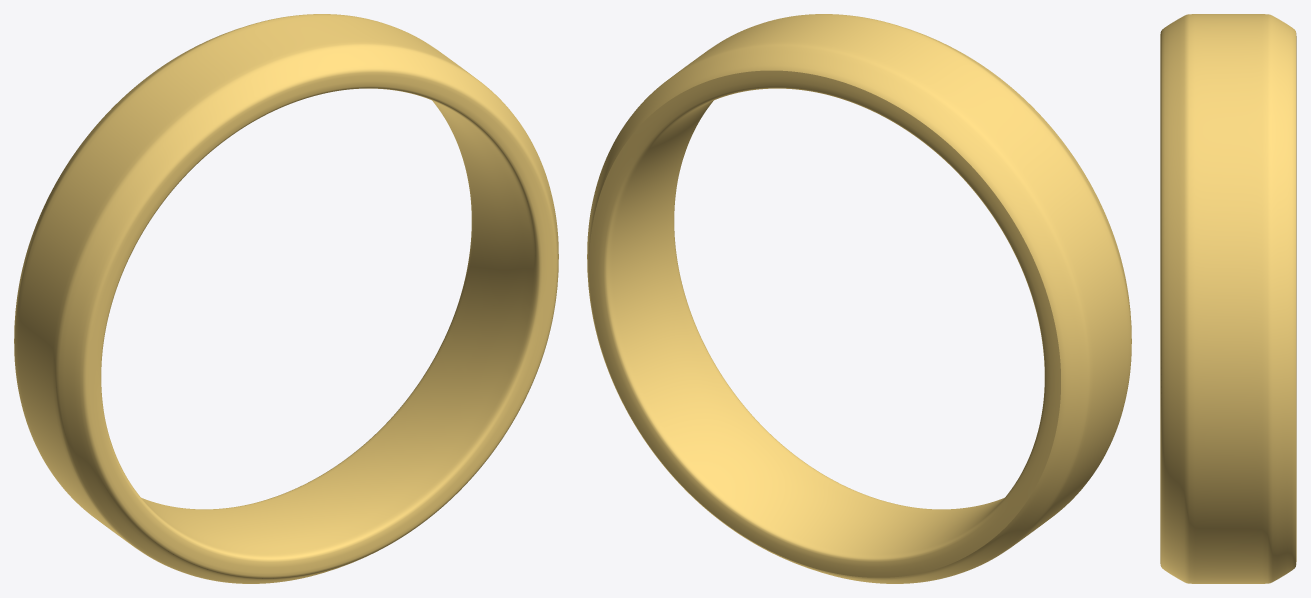
Rendered from JeremyYGhis_blender.glb.
3 renders of one model, left to right at view 1: azimuth 30°, elevation 25°; view 2: azimuth 150°, elevation 25°; view 3: azimuth 270°, elevation 25°, orthographic.
Parts seen in each view (by area): view 1: Jeremy YG for 3d model; view 2: Jeremy YG for 3d model; view 3: Jeremy YG for 3d model.
Part boxes in pixels (left/top/right/bottom): Jeremy YG for 3d model: left=14, top=14, right=558, bottom=583; Jeremy YG for 3d model: left=587, top=14, right=1131, bottom=583; Jeremy YG for 3d model: left=1160, top=14, right=1296, bottom=583.
Size of the model in its own units: 21.36 by 21.36 by 5.1.
